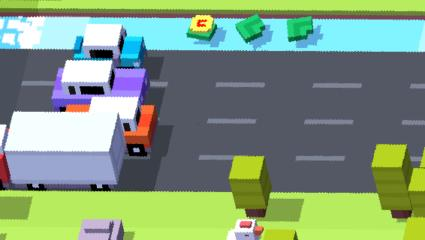hen: (226, 221, 263, 240)
obstacle: (3, 114, 126, 189), (62, 100, 157, 156), (51, 60, 151, 105), (73, 25, 146, 70), (372, 142, 411, 222), (229, 156, 271, 217), (79, 220, 126, 240), (410, 166, 425, 220), (405, 218, 425, 240), (261, 230, 298, 240)
timber: (236, 15, 267, 42), (185, 18, 217, 41), (287, 17, 315, 41)
